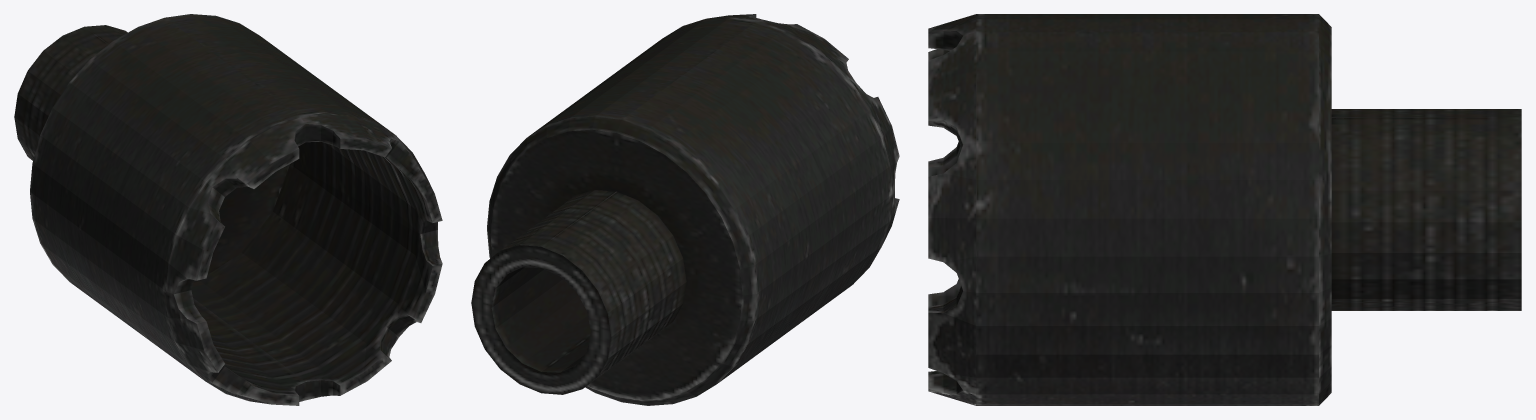
3 renders of one model, left to right at view 1: azimuth 30°, elevation 25°; view 2: azimuth 150°, elevation 25°; view 3: azimuth 270°, elevation 25°, orthographic. The views are drawn at different scales.
Parts seen in each view (by area): view 1: TW_5e21ca18e4d47f0da15e77dd_PZ_Import; view 2: TW_5e21ca18e4d47f0da15e77dd_PZ_Import; view 3: TW_5e21ca18e4d47f0da15e77dd_PZ_Import.
Boxes of the visible parts, x1,y1,x2,y2 form: TW_5e21ca18e4d47f0da15e77dd_PZ_Import: (14, 14, 442, 405); TW_5e21ca18e4d47f0da15e77dd_PZ_Import: (471, 14, 899, 405); TW_5e21ca18e4d47f0da15e77dd_PZ_Import: (928, 14, 1521, 405).
Bounding box in the file's own units: 0.0167 × 0.0253 × 0.0167.
1 material, 1 textured.
